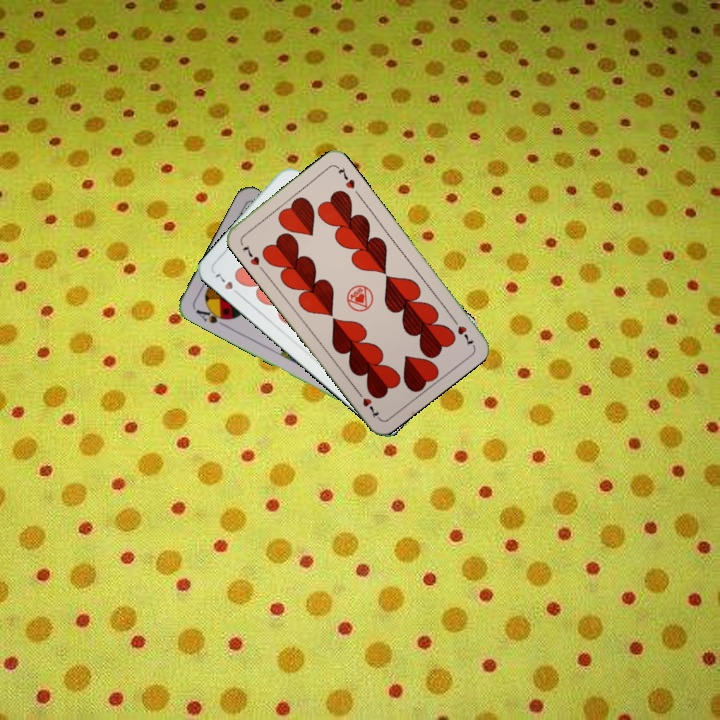H7: (211, 267, 244, 299), (448, 313, 476, 349), (238, 241, 262, 268)
SA: (192, 303, 232, 330)
